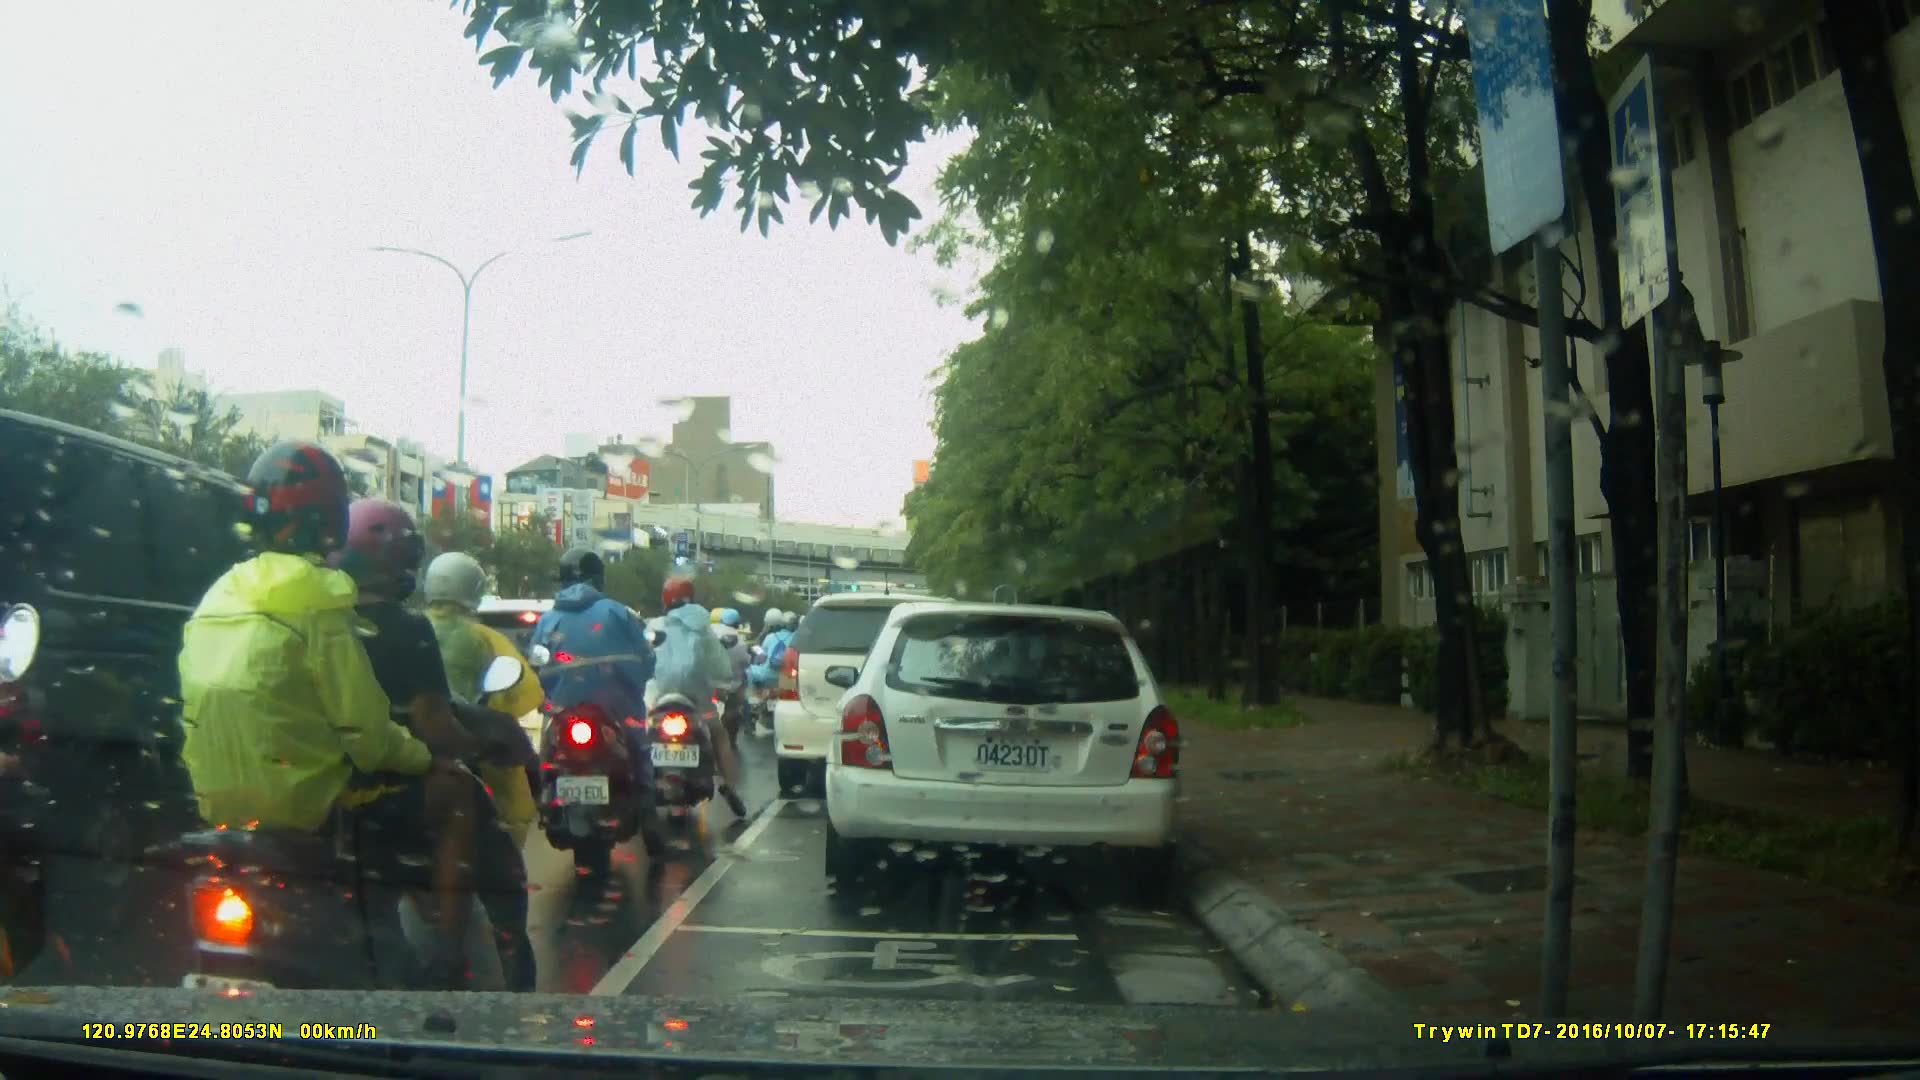rider: (175, 446, 554, 1064), (351, 550, 553, 951), (530, 554, 664, 868), (632, 577, 747, 813), (705, 604, 757, 733)
vehicle: (2, 405, 407, 971), (822, 604, 1188, 883), (362, 590, 657, 805), (774, 595, 995, 802)
